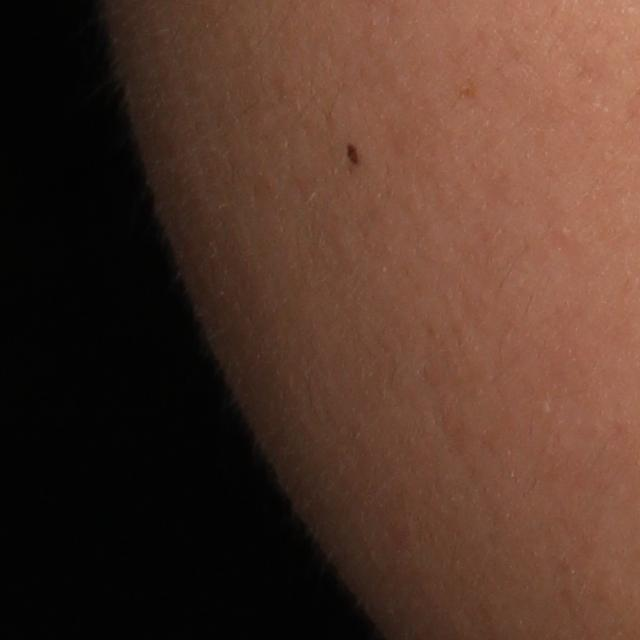nevus: (346, 143, 361, 165)
